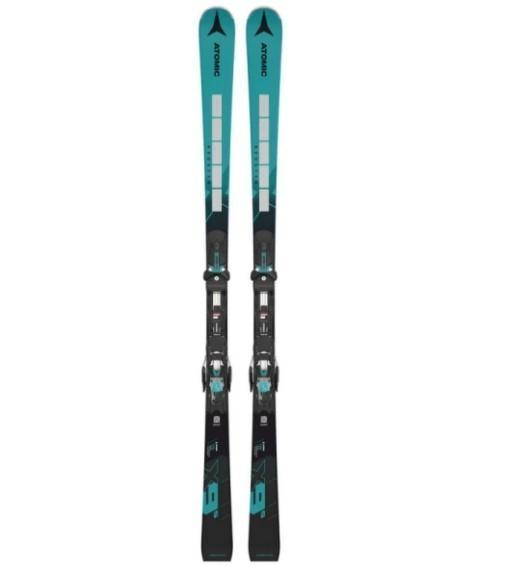Skis: (239, 4, 291, 564), (192, 3, 239, 564)
